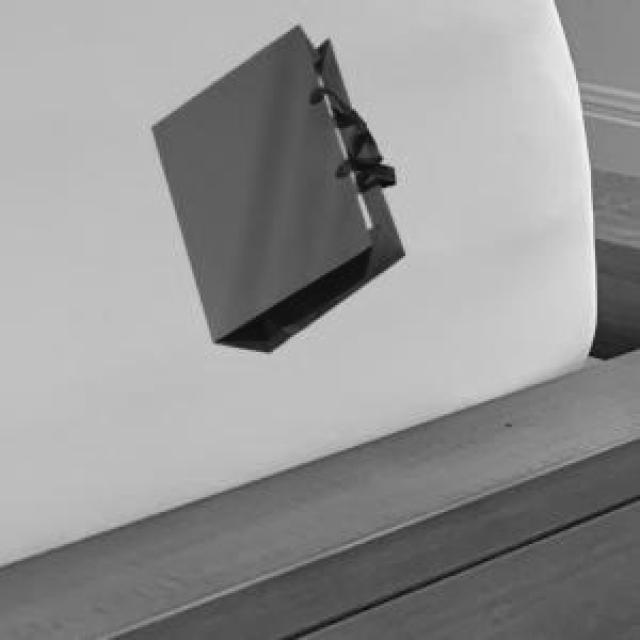paper: (147, 21, 401, 348)
